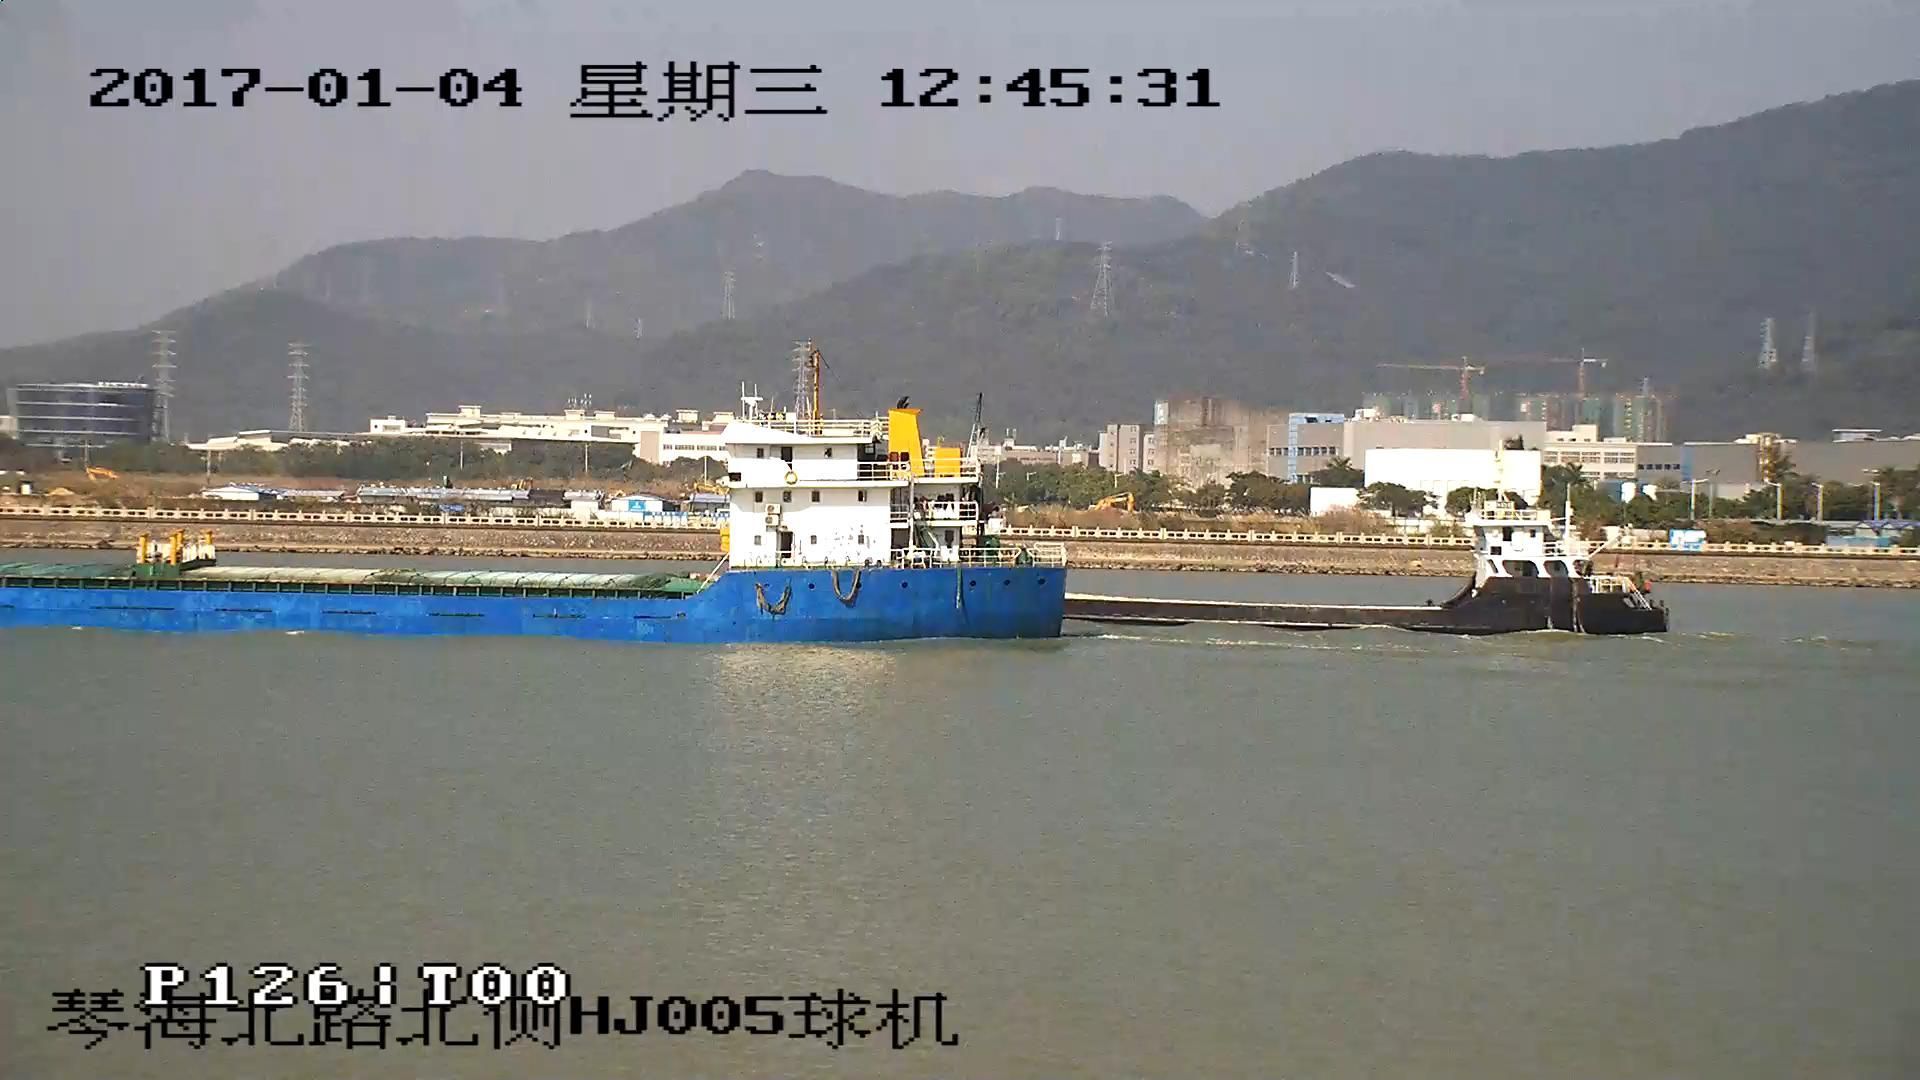Ship: (3, 417, 1065, 640), (1068, 500, 1665, 636)
